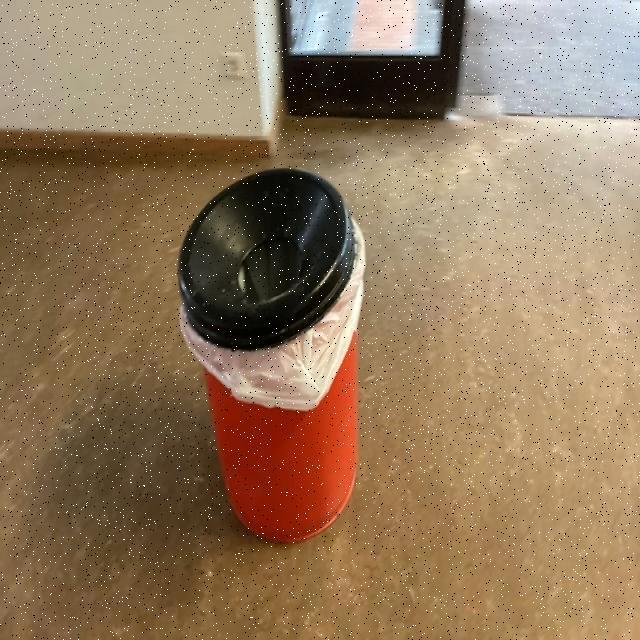garbage container: (165, 124, 384, 583)
